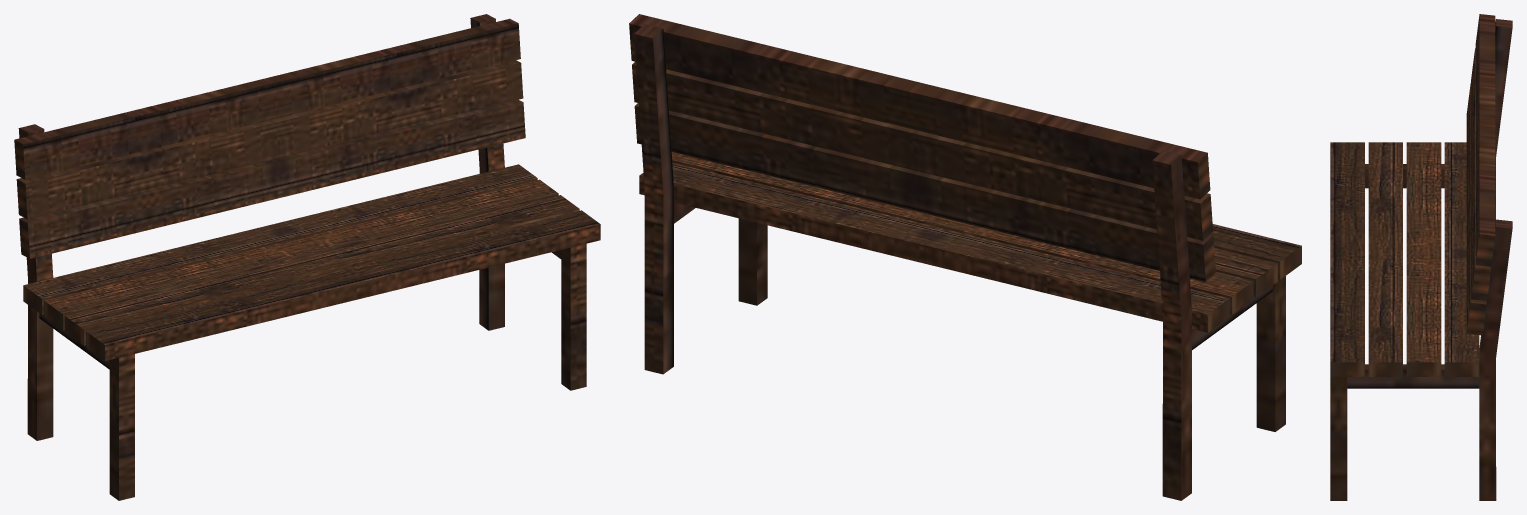
File: Bancosilla.fbx
3 views of the same model, side by side, from view 1: azimuth 30°, elevation 25°; view 2: azimuth 150°, elevation 25°; view 3: azimuth 270°, elevation 25° (orthographic). The views are drawn at different scales.
Visible parts, largest first — view 1: Bench; view 2: Bench; view 3: Bench.
Part boxes in pixels (x1,y1,x2,y2): Bench: (14,14,600,500); Bench: (629,14,1301,500); Bench: (1330,14,1512,500).
Bounding box in the file's own units: 175 × 102 × 61.24.
Materials: 1 (1 with a texture image).
